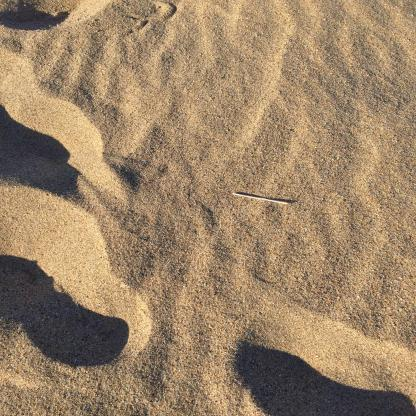plastik: (234, 194, 289, 206)
